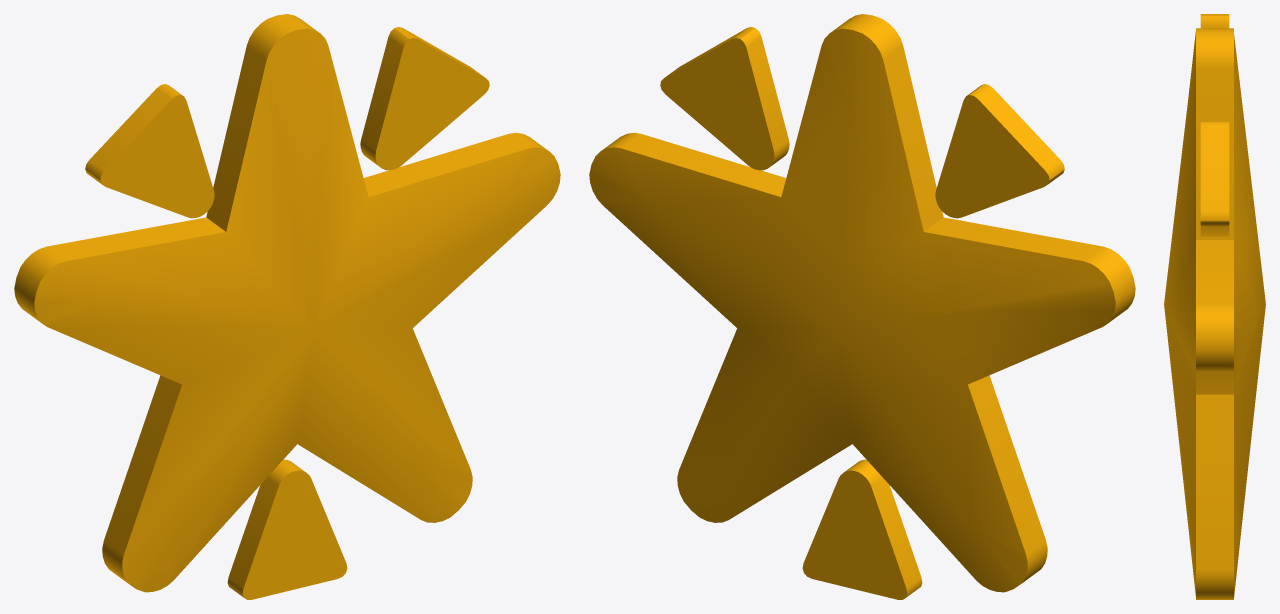
The model's file is glowing_star.glb.
The picture shows the model from 3 angles, left to right: view 1: azimuth 30°, elevation 25°; view 2: azimuth 150°, elevation 25°; view 3: azimuth 270°, elevation 25°; orthographic projection. The views are drawn at different scales.
Visible parts, largest first — view 1: Circle.2113; view 2: Circle.2113; view 3: Circle.2113.
Boxes of the visible parts, left/top/right/bottom form: Circle.2113: left=14, top=14, right=560, bottom=599; Circle.2113: left=589, top=14, right=1135, bottom=599; Circle.2113: left=1164, top=14, right=1265, bottom=599.
Bounding box in the file's own units: 2.32 × 2.36 × 0.4099.
1 material, 1 textured.
